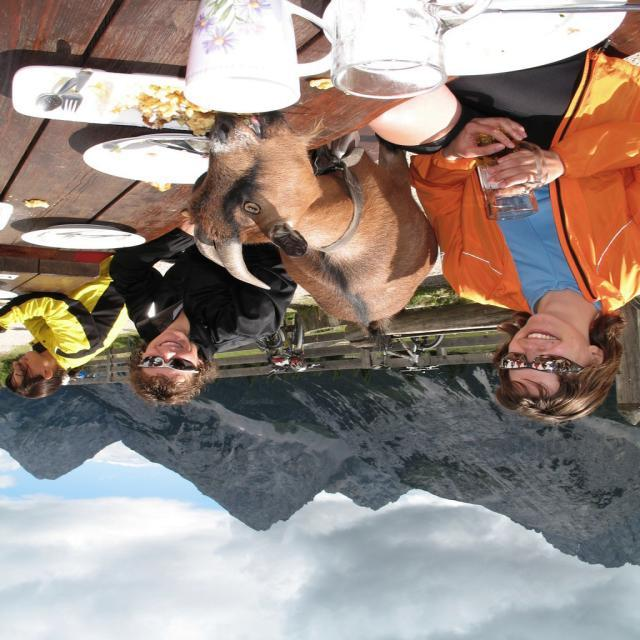Goat: (183, 110, 442, 353)
